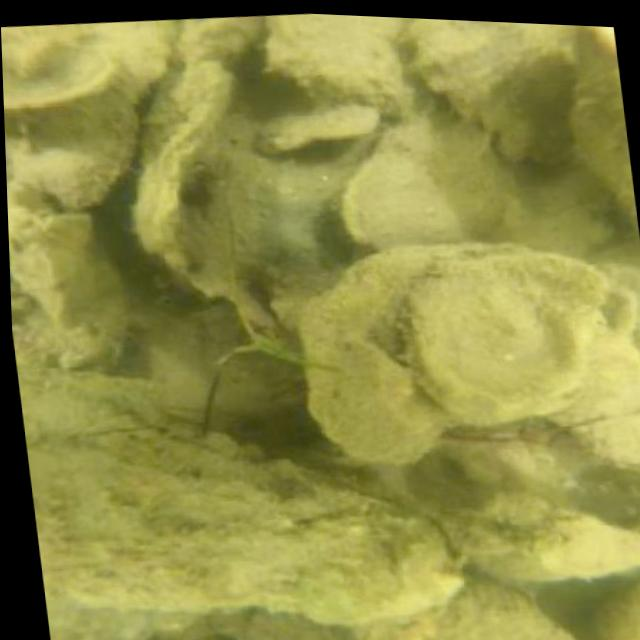Oyster-Closed: (135, 60, 236, 263), (572, 26, 628, 223), (422, 581, 574, 640)
Oyster-Indeterminate: (35, 440, 458, 629), (300, 242, 523, 465), (398, 249, 636, 424), (408, 19, 569, 158), (342, 127, 461, 246), (266, 25, 412, 120), (207, 350, 311, 440), (177, 18, 252, 64)
